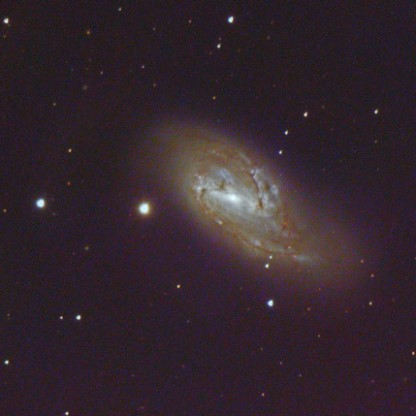Messier 66: (129, 117, 375, 314)
